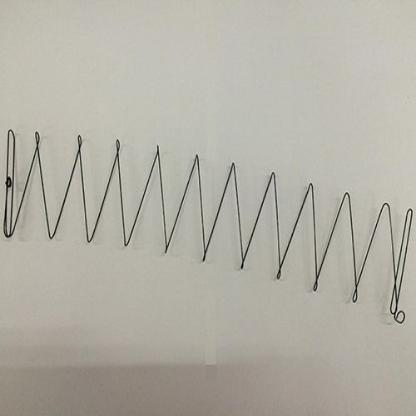FOD: (3, 126, 414, 325)
